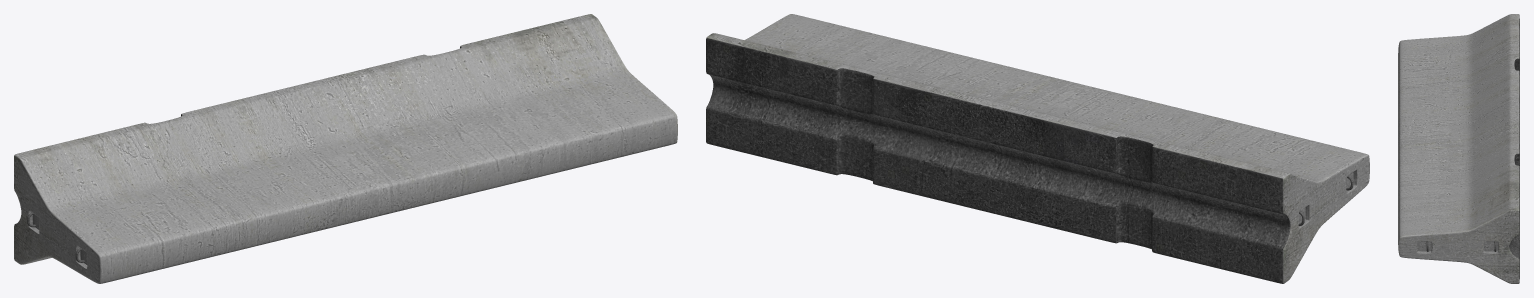
File: 10551_ConcreteConstructionBarricade_v1-L3.obj
The picture shows the model from 3 angles, left to right: view 1: azimuth 30°, elevation 25°; view 2: azimuth 150°, elevation 25°; view 3: azimuth 270°, elevation 25°; orthographic projection. The views are drawn at different scales.
Parts seen in each view (by area): view 1: ConcreteConstructionBarrier; view 2: ConcreteConstructionBarrier; view 3: ConcreteConstructionBarrier.
Part boxes in pixels (<box>): ConcreteConstructionBarrier: <box>14,14,677,283</box>; ConcreteConstructionBarrier: <box>706,14,1369,283</box>; ConcreteConstructionBarrier: <box>1398,14,1519,283</box>.
Size of the model in its own units: 278 by 48.46 by 71.82.
1 material, 1 textured.
